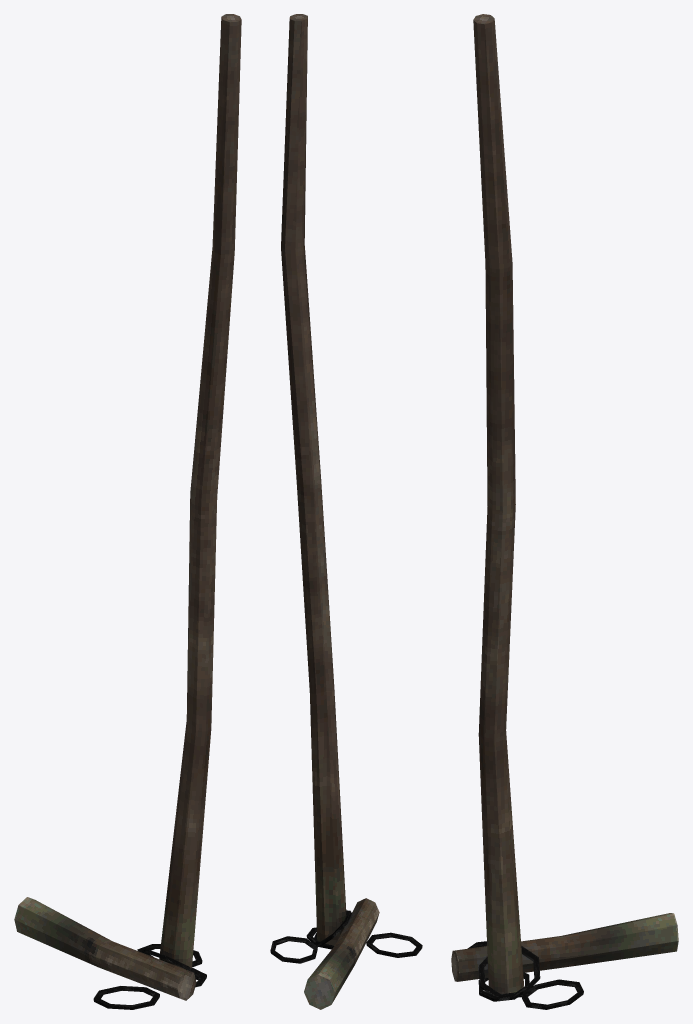
The model's file is Lamp_broken_01.glb.
The picture shows the model from 3 angles, left to right: view 1: azimuth 30°, elevation 25°; view 2: azimuth 150°, elevation 25°; view 3: azimuth 270°, elevation 25°; orthographic projection. The views are drawn at different scales.
Parts seen in each view (by area): view 1: Lamp_broken_01; view 2: Lamp_broken_01; view 3: Lamp_broken_01.
Boxes of the visible parts, left/top/right/bottom form: Lamp_broken_01: left=14, top=14, right=241, bottom=1009; Lamp_broken_01: left=270, top=14, right=422, bottom=1009; Lamp_broken_01: left=451, top=14, right=678, bottom=1009.
Bounding box in the file's own units: 2.24 × 14.59 × 3.02.
Materials: 1 (1 with a texture image).
